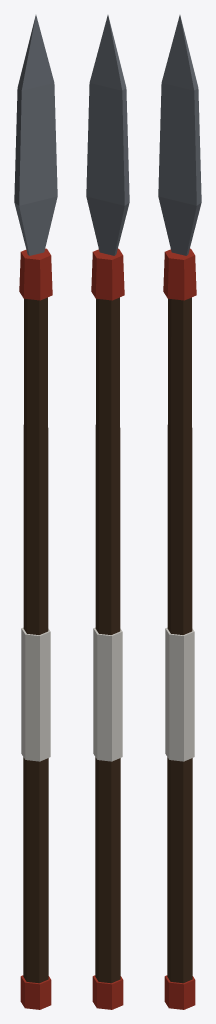
Rendered from weapon_naginata.glb.
3 views of the same model, side by side, from view 1: azimuth 30°, elevation 25°; view 2: azimuth 150°, elevation 25°; view 3: azimuth 330°, elevation 25° (orthographic).
Visible parts, largest first — view 1: elephant_weapon_naginata; view 2: elephant_weapon_naginata; view 3: elephant_weapon_naginata.
Boxes of the visible parts, box(x1,y1,x2,y2) form: elephant_weapon_naginata: box(14, 15, 57, 1009); elephant_weapon_naginata: box(86, 15, 129, 1009); elephant_weapon_naginata: box(158, 15, 201, 1009).
Size of the model in its own units: 0.0849 by 2.08 by 0.0638.
